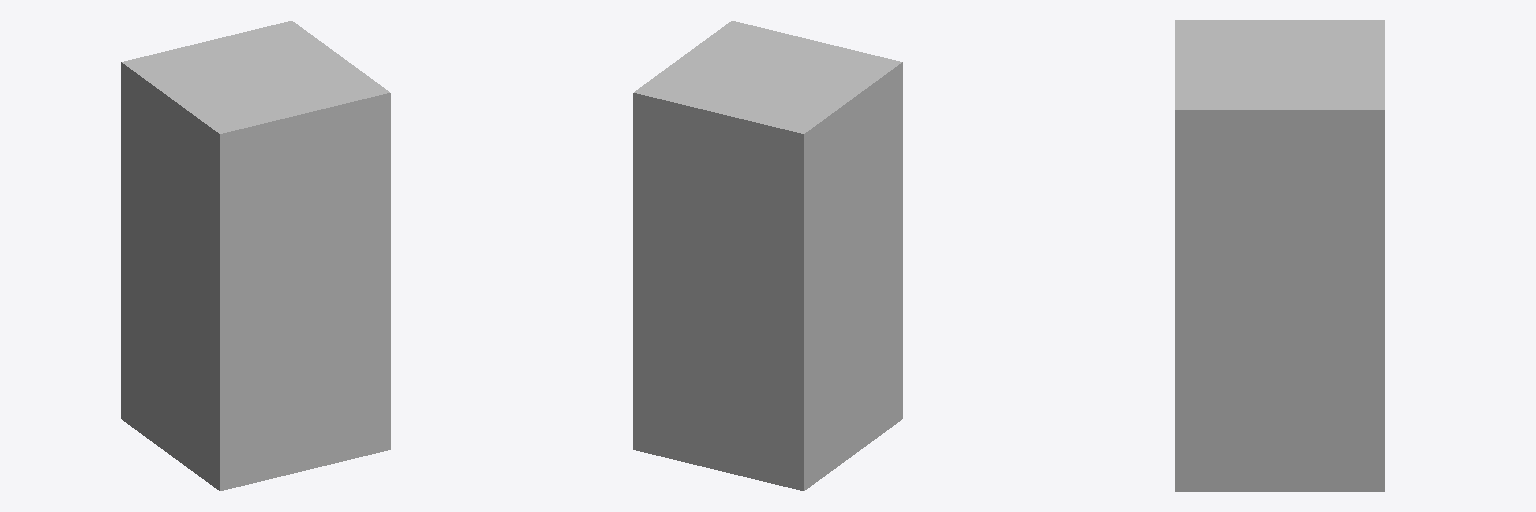
URDF robot description (block_2):
<?xml version="1.0"?>
<robot name="block_2">
  <link name="block_2_base_link">
    <contact>
      <lateral_friction value="1.0"/>
      <spinning_friction value=".001"/>
    </contact>
    <inertial>
      <origin rpy="0 0 0" xyz="0 0 0"/>
      <mass value="0.02"/>
      <inertia ixx="1" ixy="0" ixz="0" iyy="1" iyz="0" izz="1"/>
    </inertial>
    <visual>
      <origin rpy="0 0 0" xyz="0.0 0.0 0.0"/>
      <geometry>
        <box size=".5 .5 1"/>
      </geometry>
      <material name="blockmat">
        <color rgba=".8 .8 .8 5"/>
      </material>
    </visual>
    <collision>
      <origin rpy="0 0 0" xyz="0.0 0.0 0.0"/>
      <geometry>
        <box size=".5 .5 1"/>
      </geometry>
    </collision>
  </link>
</robot>

--- Render facts (derived) ---
3 views of the same robot in one strip: view 1: azimuth 30°, elevation 25°; view 2: azimuth 150°, elevation 25°; view 3: azimuth 270°, elevation 25° (orthographic).
Model block_2 with 1 links and 0 joints (none), rooted at block_2_base_link, posed every joint at zero.
Links seen in each view (by area): view 1: block_2_base_link; view 2: block_2_base_link; view 3: block_2_base_link.
Link boxes in pixels (box(x1,y1,x2,y2)): block_2_base_link: box(121, 21, 390, 490); block_2_base_link: box(633, 21, 902, 490); block_2_base_link: box(1175, 20, 1384, 491).
Size in the robot's own frame: 0.5 by 0.5 by 1 metres.
Geometry: primitives only (box / cylinder / sphere), no mesh files.
